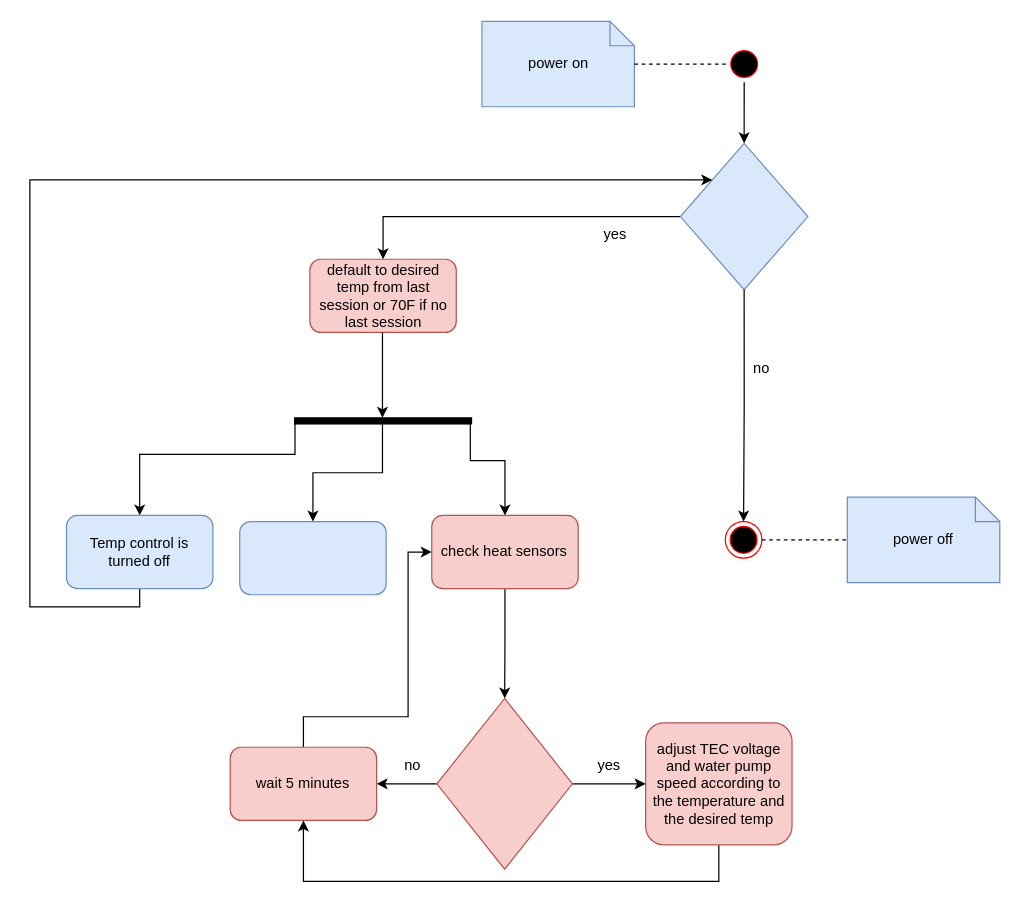
This 1021x913 diagram has some shape labels left out. Here are the shapes that lost their labels. From the top down, the box of each, then its label:
(679, 142, 808, 290): Enable Temp control?
(239, 520, 386, 595): updates desired temp
(436, 697, 572, 869): Within the acceptable range?
